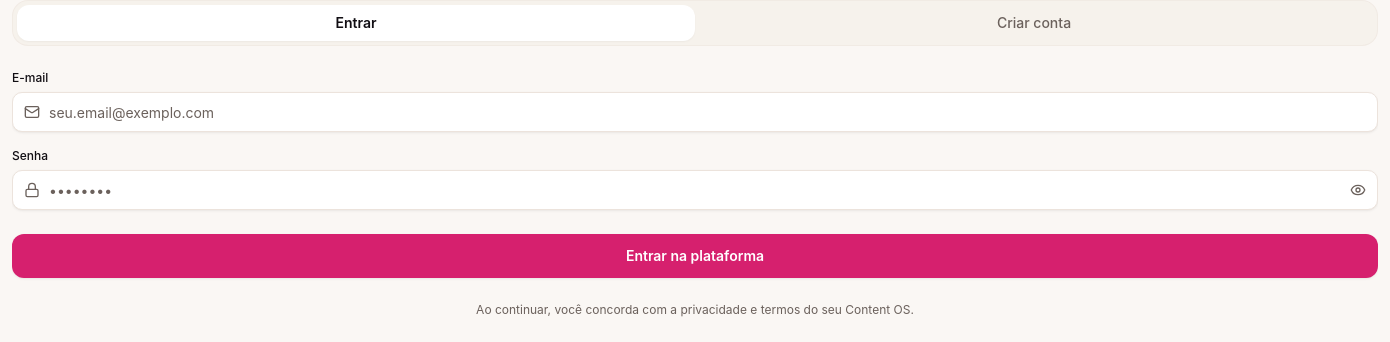
Test: LoginForm › permite alternar entre os modos 'Entrar' e 'Criar conta'
The width and height of the screenshot is (1390, 342).
Step 1. Click the button "Criar conta" → point(1034, 23), box x1=695 y1=5 x2=1373 y2=41
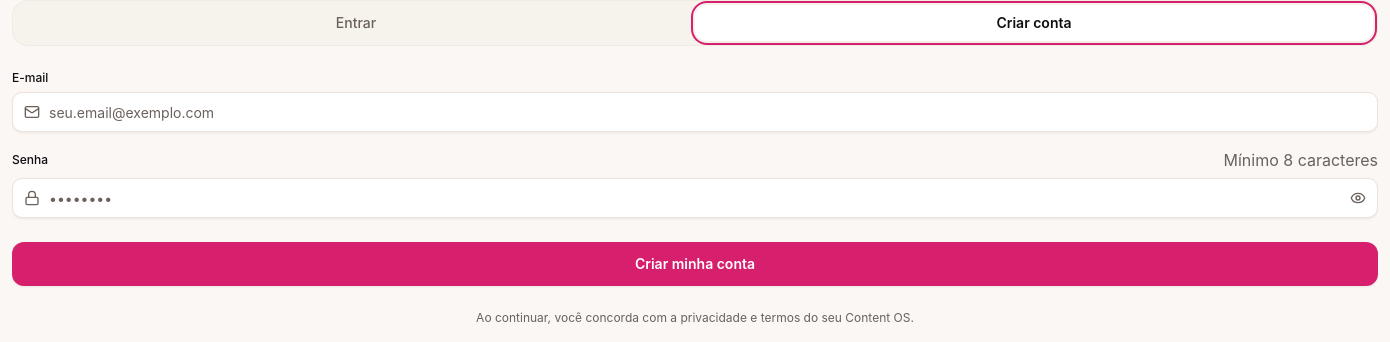
Check: the button "Criar minha conta" is shown, box x1=12 y1=242 x2=1378 y2=286
Check: the text "Mínimo 8 caracteres" is shown, box x1=1224 y1=148 x2=1378 y2=172
